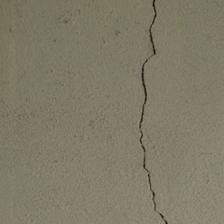Crack: (68, 2, 100, 220)
